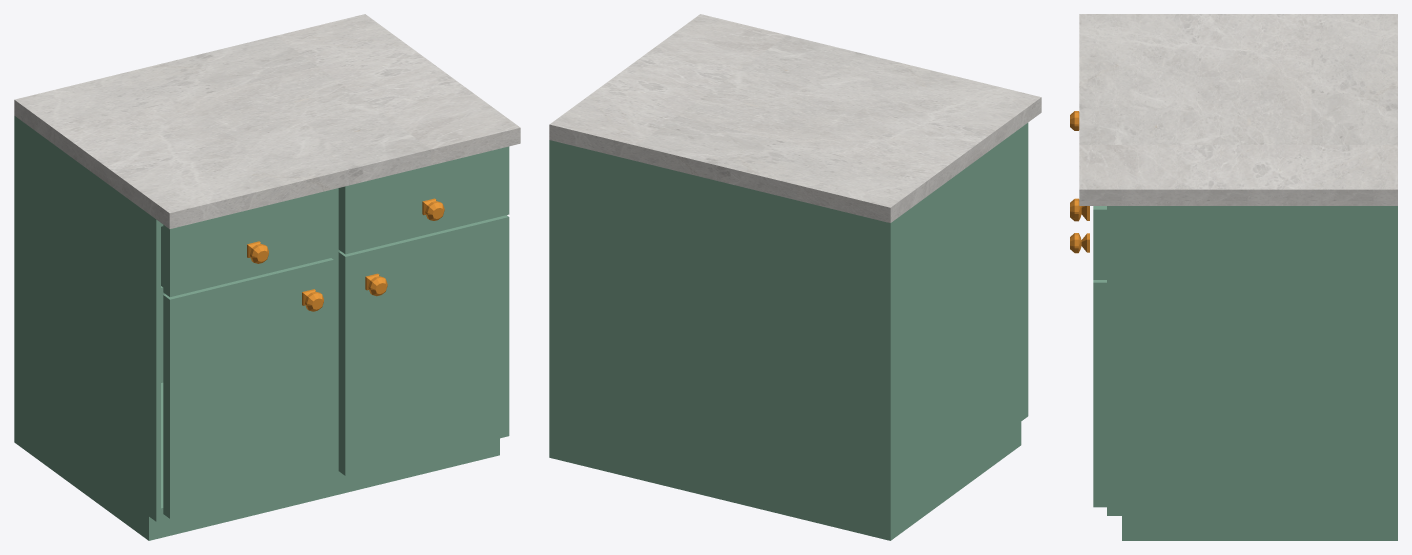
File: Bathroom - Stand.fbx
3 views of the same model, side by side, from view 1: azimuth 30°, elevation 25°; view 2: azimuth 150°, elevation 25°; view 3: azimuth 270°, elevation 25° (orthographic). The views are drawn at different scales.
Parts seen in each view (by area): view 1: Cube.180, Cube.179, Cube.171, Cube.170, Cube.163, Cube.169; view 2: Cube.179, Cube.180; view 3: Cube.179, Cube.180, Cube.171, Cube.169.
Part boxes in pixels (box(x1,y1,x2,y2)): Cube.180: box(14, 14, 520, 228); Cube.179: box(14, 116, 499, 540); Cube.171: box(338, 215, 509, 475); Cube.170: box(163, 258, 333, 518); Cube.163: box(161, 189, 333, 296); Cube.169: box(338, 146, 509, 254); Cube.179: box(549, 123, 1028, 540); Cube.180: box(549, 14, 1041, 222); Cube.179: box(1107, 206, 1397, 540); Cube.180: box(1079, 14, 1397, 205); Cube.171: box(1070, 233, 1106, 507); Cube.169: box(1070, 198, 1106, 279).
Bounding box in the file's own units: 300 × 280 × 237.
